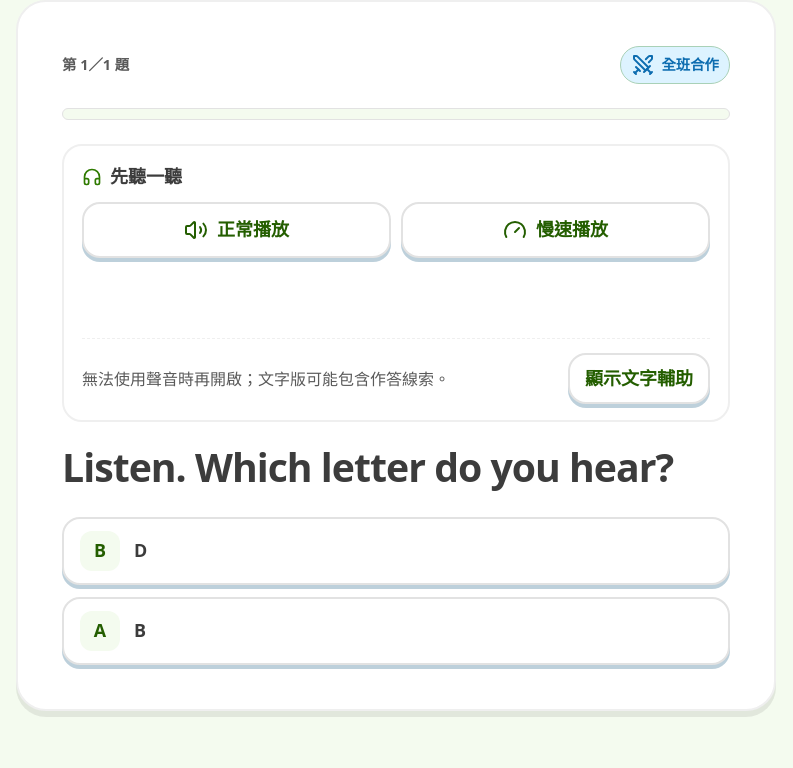
ClassroomMissionSession › submits a revealed listening transcript as assisted classroom evidence
The width and height of the screenshot is (793, 768).
Click the button "顯示文字輔助" at x=639, y=379, box 568,353 -> 710,404
(page scrolled)
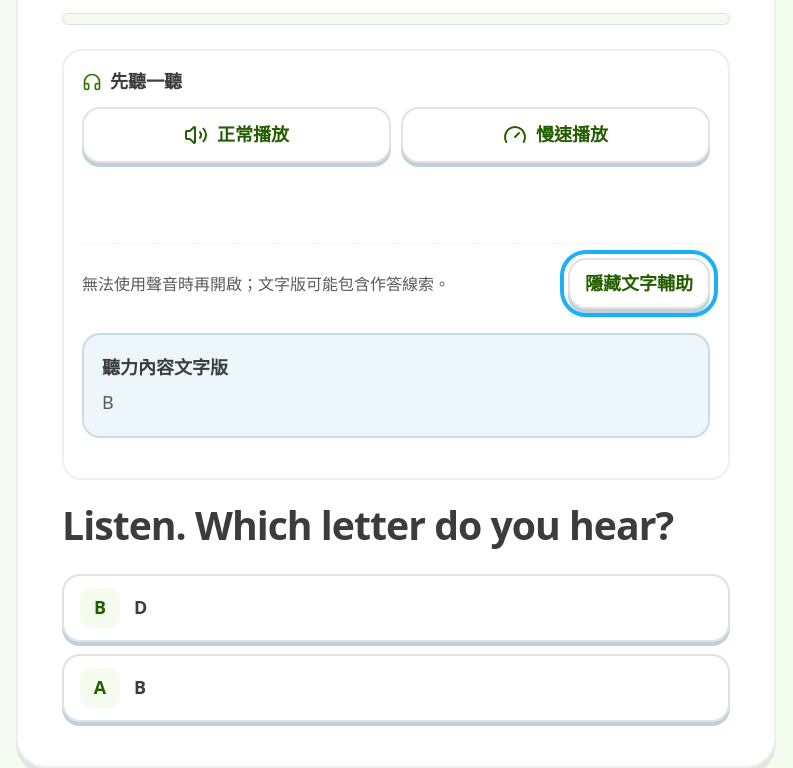
Click the button "A B" at x=100, y=688, box 62,654 -> 730,722
(page scrolled)
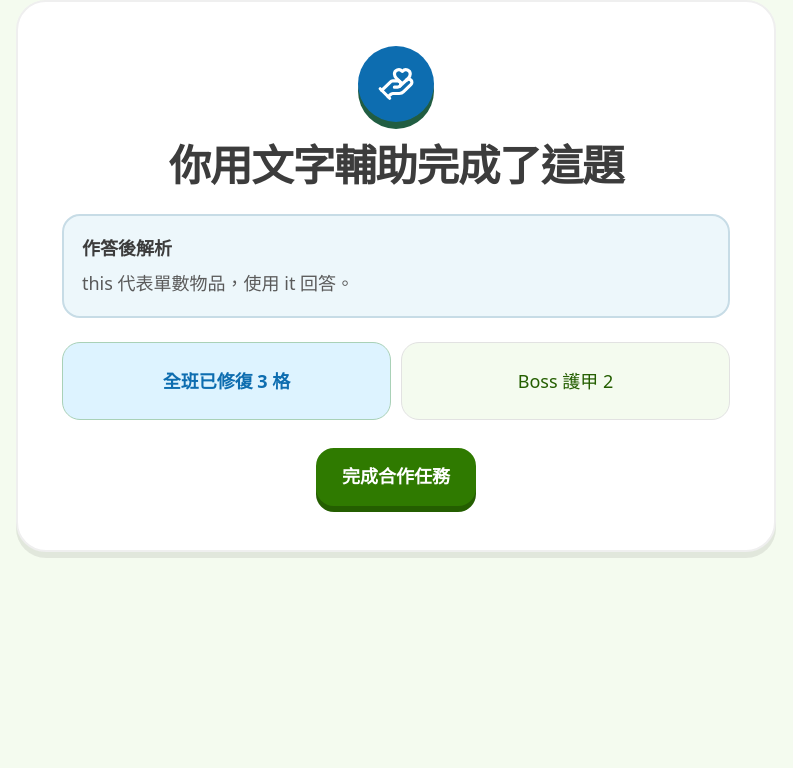
Check: the heading "你用文字輔助完成了這題" is shown, box 169,136 -> 623,193
